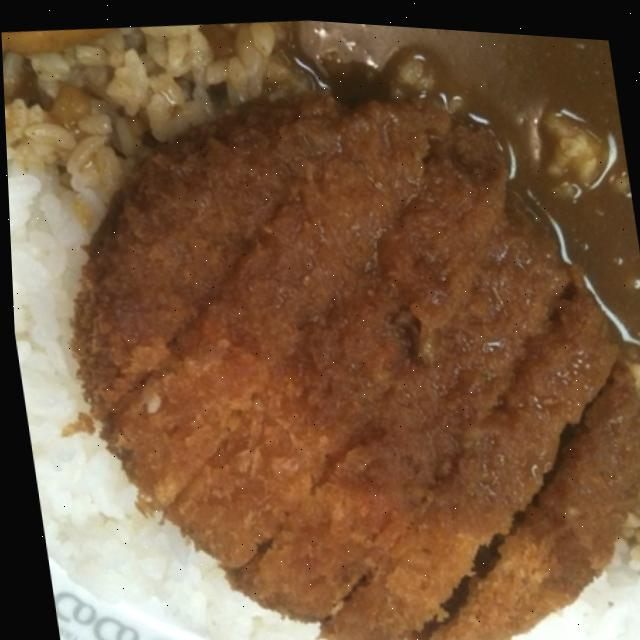炸货点心: (3, 39, 640, 640)
